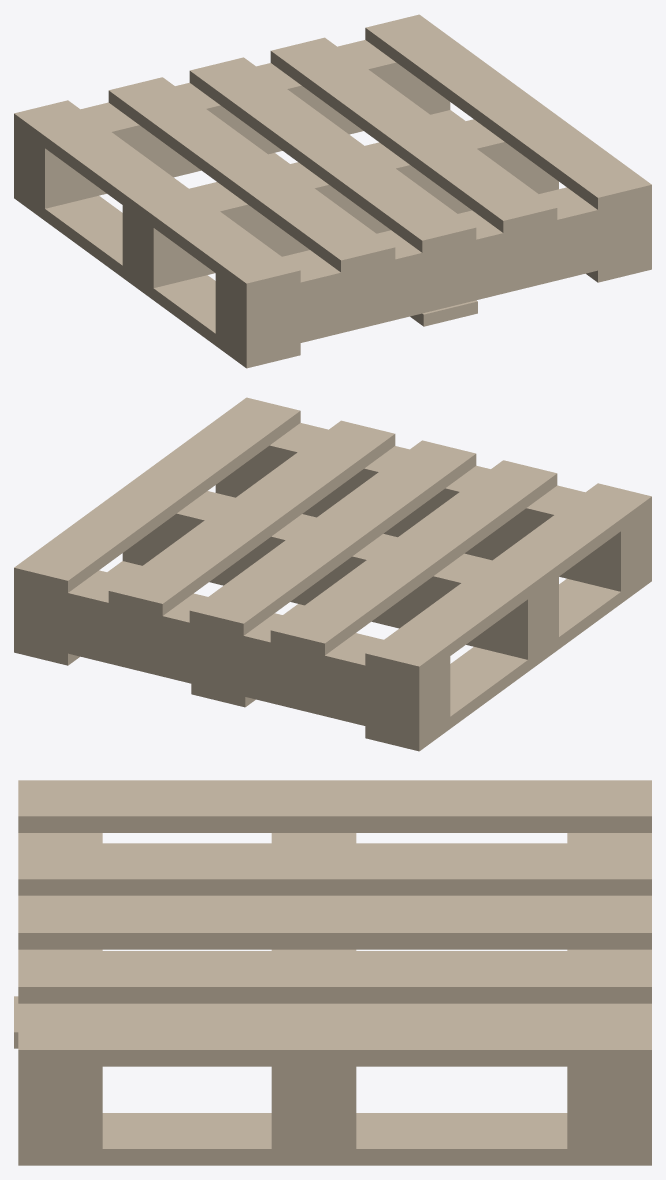
Rendered from empty-pallet.glb.
3 renders of one model, top to bottom at view 1: azimuth 30°, elevation 25°; view 2: azimuth 150°, elevation 25°; view 3: azimuth 270°, elevation 25°, orthographic. The views are drawn at different scales.
Parts seen in each view (by area): view 1: Mesh_Mesh_head_geo.001_lambert2SG.001; view 2: Mesh_Mesh_head_geo.001_lambert2SG.001; view 3: Mesh_Mesh_head_geo.001_lambert2SG.001.
Boxes of the visible parts, x1=… form: Mesh_Mesh_head_geo.001_lambert2SG.001: x1=14, y1=14, x2=651, y2=368; Mesh_Mesh_head_geo.001_lambert2SG.001: x1=14, y1=397, x2=651, y2=751; Mesh_Mesh_head_geo.001_lambert2SG.001: x1=14, y1=780, x2=651, y2=1165.
Bounding box in the file's own units: 5 × 1 × 5.
